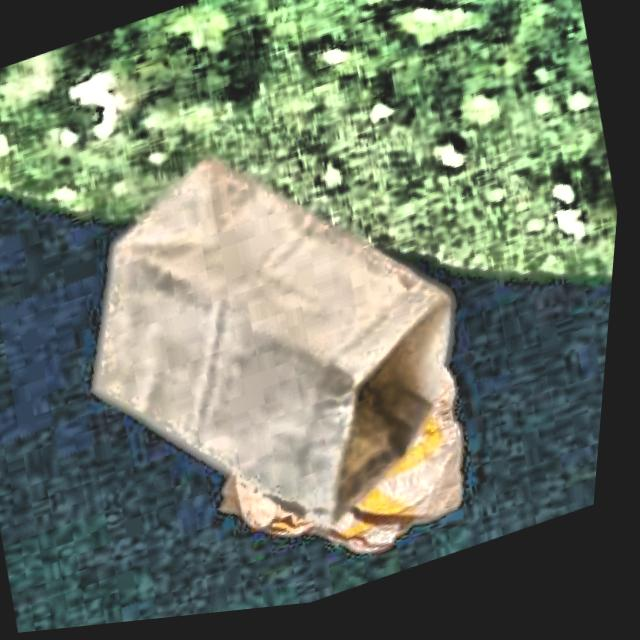Paper-bag: (18, 80, 504, 618), (153, 223, 523, 623)
